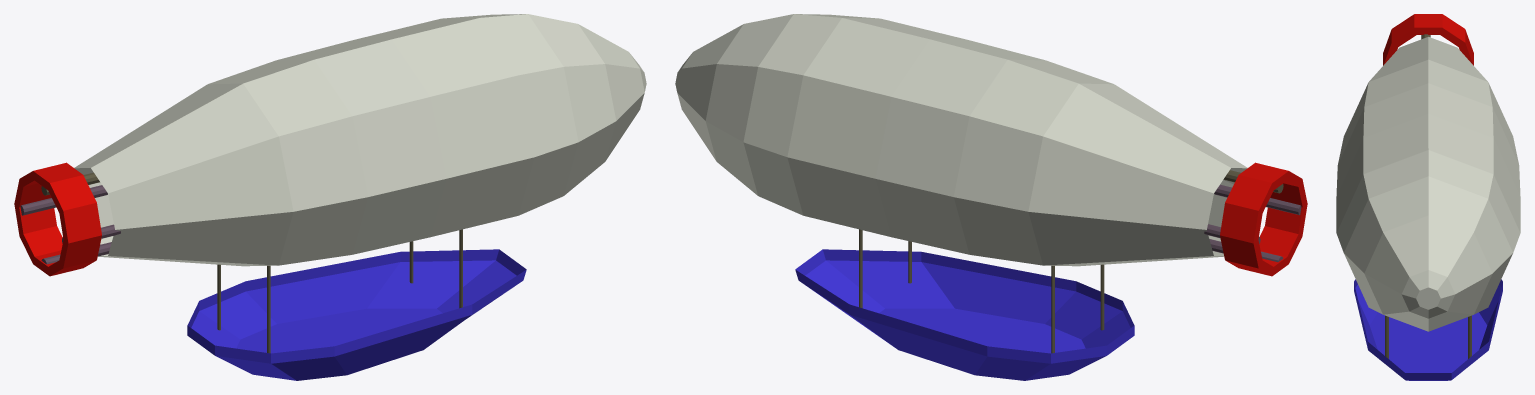
The model's file is ship_1.fbx.
3 views of the same model, side by side, from view 1: azimuth 30°, elevation 25°; view 2: azimuth 150°, elevation 25°; view 3: azimuth 270°, elevation 25° (orthographic). The views are drawn at different scales.
Parts seen in each view (by area): view 1: Circle, Circle.006, Circle.001, Circle.005; view 2: Circle, Circle.006, Circle.001, Circle.004; view 3: Circle, Circle.006, Circle.001, Circle.010, Circle.009.
Boxes of the visible parts, x1,y1,x2,y2 form: Circle: (74, 14, 646, 266); Circle.006: (187, 249, 526, 380); Circle.001: (14, 162, 101, 276); Circle.005: (20, 185, 107, 215); Circle: (675, 14, 1247, 266); Circle.006: (795, 249, 1134, 380); Circle.001: (1220, 162, 1307, 276); Circle.004: (1214, 184, 1301, 215); Circle: (1336, 37, 1520, 331); Circle.006: (1354, 279, 1502, 380); Circle.001: (1383, 14, 1473, 65); Circle.010: (1468, 315, 1471, 358); Circle.009: (1385, 315, 1388, 358).
Bounding box in the file's own units: 630 × 293 × 200.
